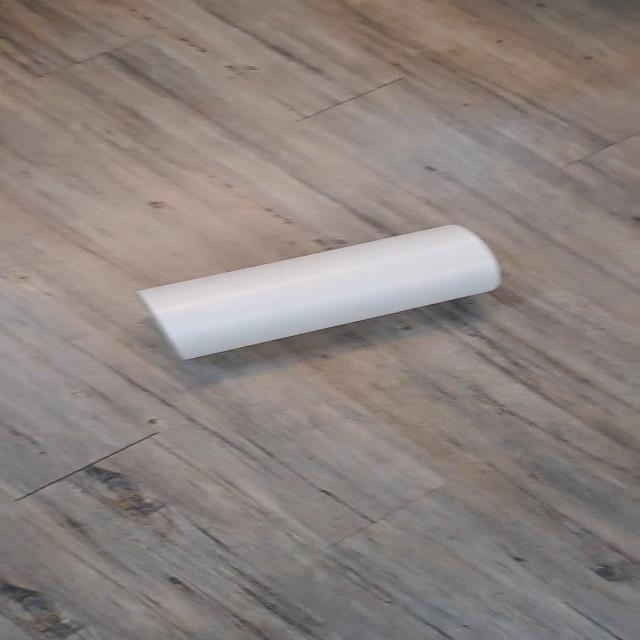CORAL: (128, 219, 513, 365)
